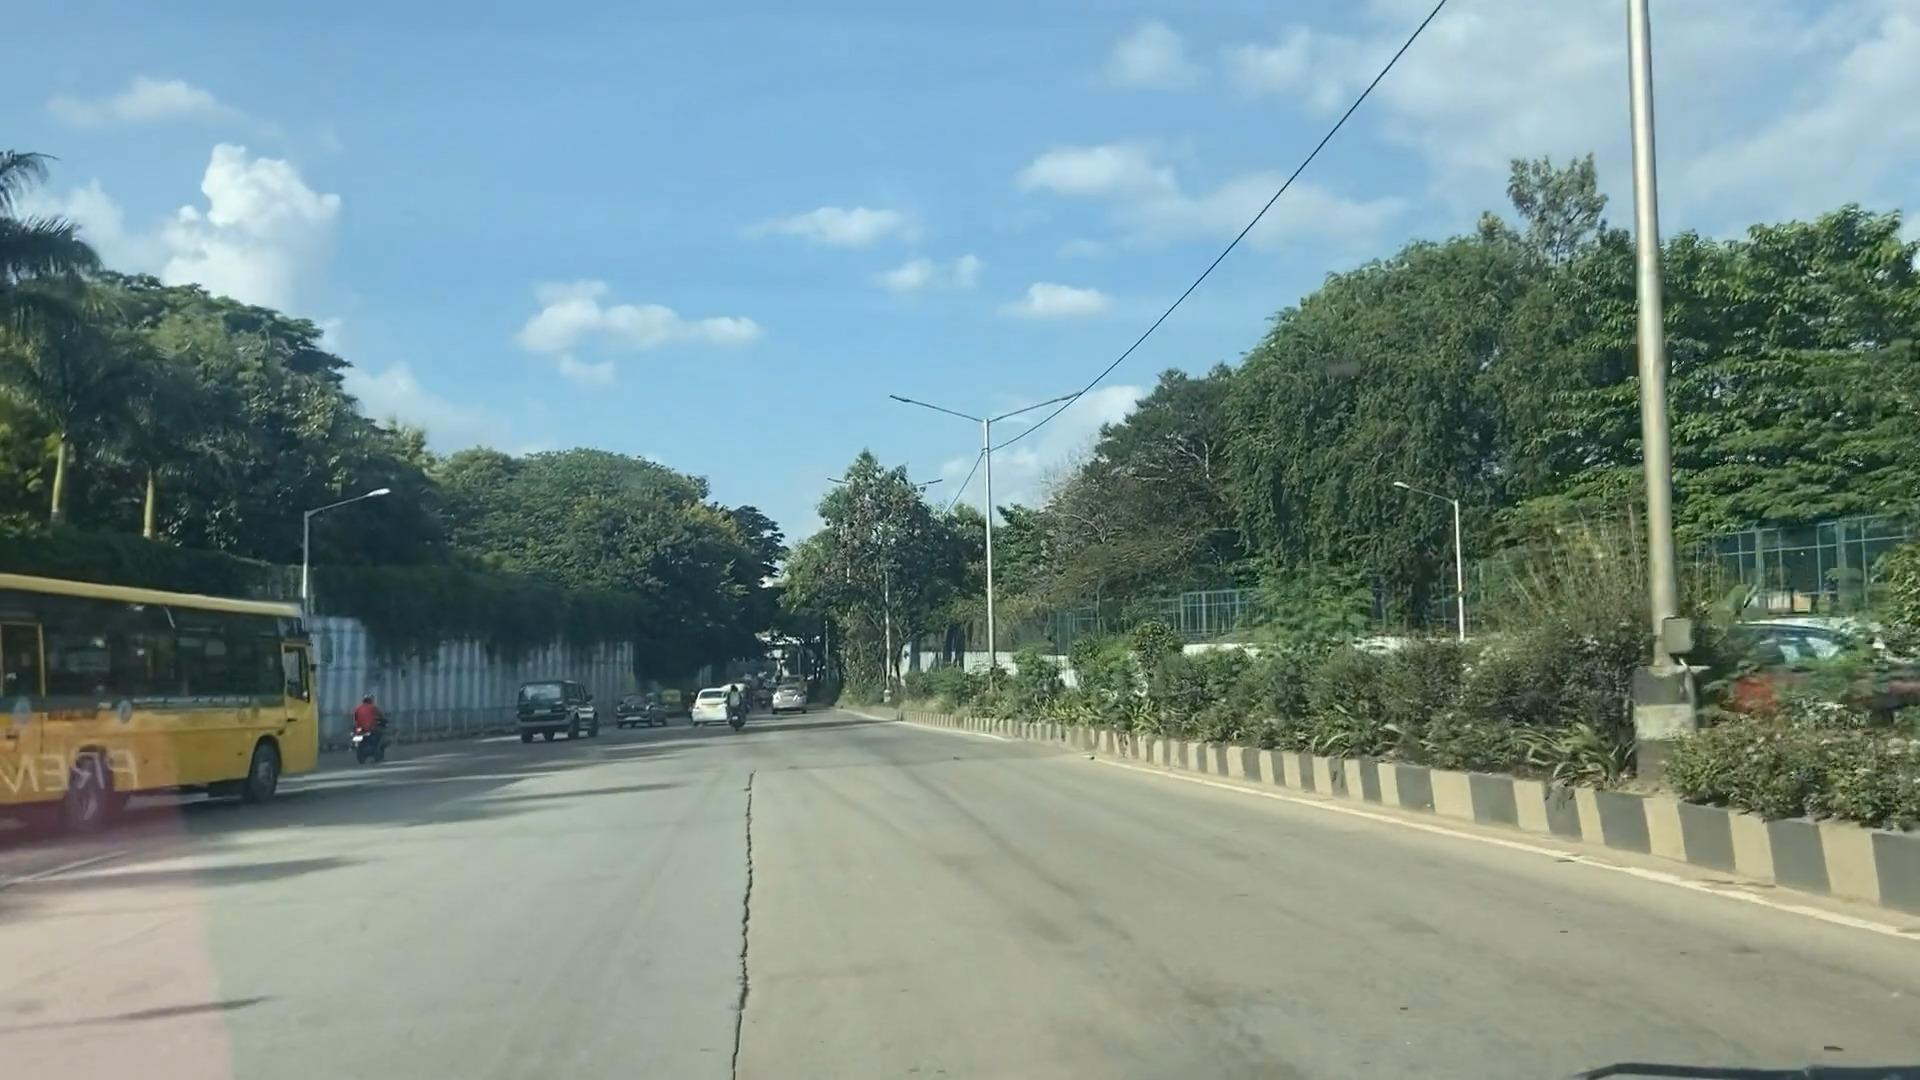RoadDamages: (711, 770, 771, 1065)
